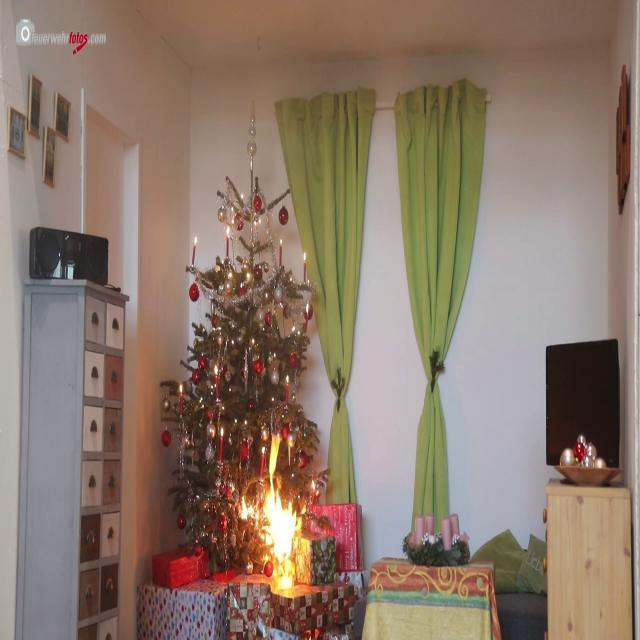Fire: (243, 435, 306, 589)
